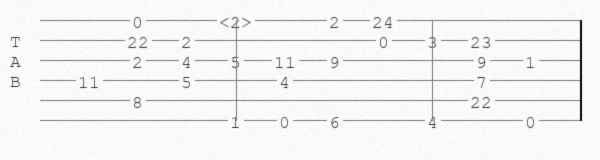0: (132, 13, 147, 28), (279, 113, 294, 128), (378, 33, 393, 48), (525, 113, 540, 128)
1: (230, 113, 245, 128), (525, 53, 540, 68)
11: (78, 73, 104, 88), (274, 53, 300, 68)
2: (132, 53, 147, 68), (181, 33, 196, 48), (329, 13, 344, 28)
22: (127, 33, 153, 48), (470, 93, 496, 108)
23: (470, 33, 496, 48)
24: (372, 13, 398, 28)
3: (427, 33, 442, 48)
4: (181, 53, 196, 68), (279, 73, 294, 88), (427, 113, 442, 128)
5: (181, 73, 196, 88), (230, 53, 245, 68)
6: (329, 113, 344, 128)
7: (476, 73, 491, 88)
8: (132, 93, 147, 108)
9: (329, 53, 344, 68), (476, 53, 491, 68)
harmonic: (219, 13, 256, 28)
